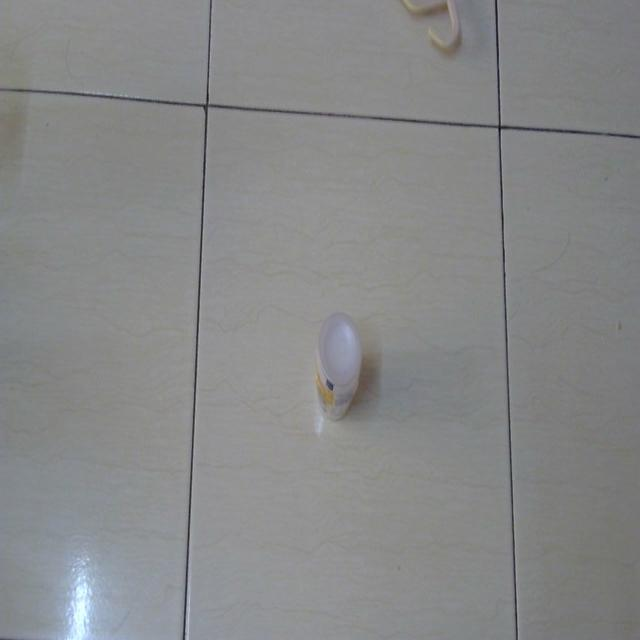plastic_standrotation: (309, 306, 372, 424)
